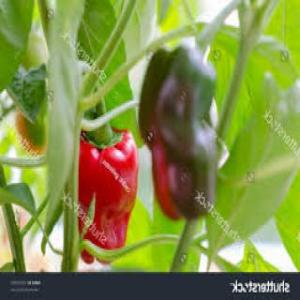bell_pepper: (143, 79, 231, 225)
